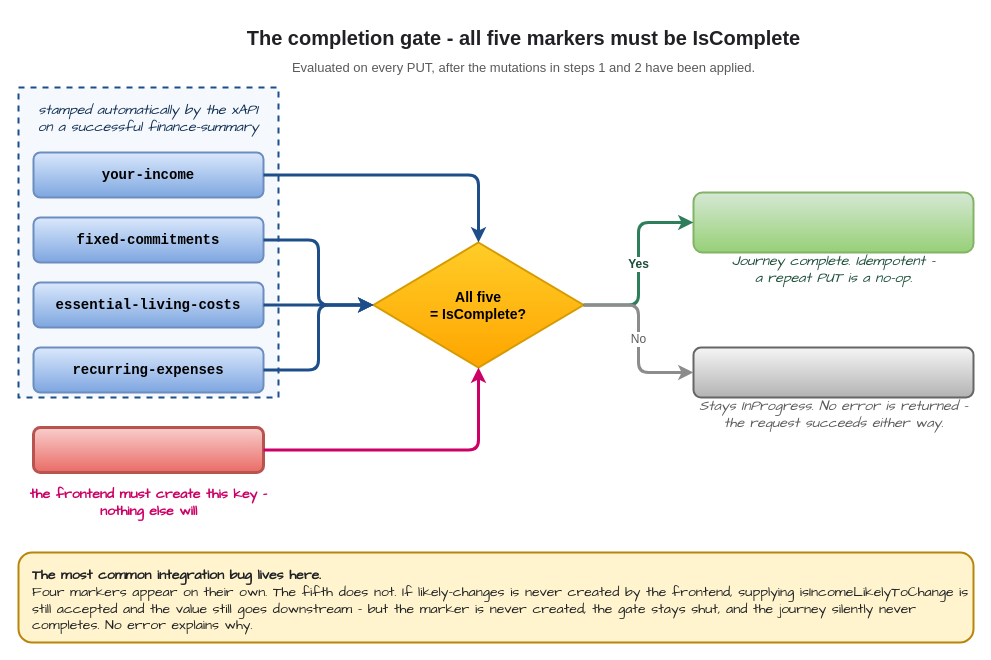
Image size: 991x660. Some labels were removed from this diagram. Each missing label, with the centre of its shape:
lendingApplyState.status = "IsComplete": (833,222)
likely-changes: (148,450)
No status change: (833,372)
